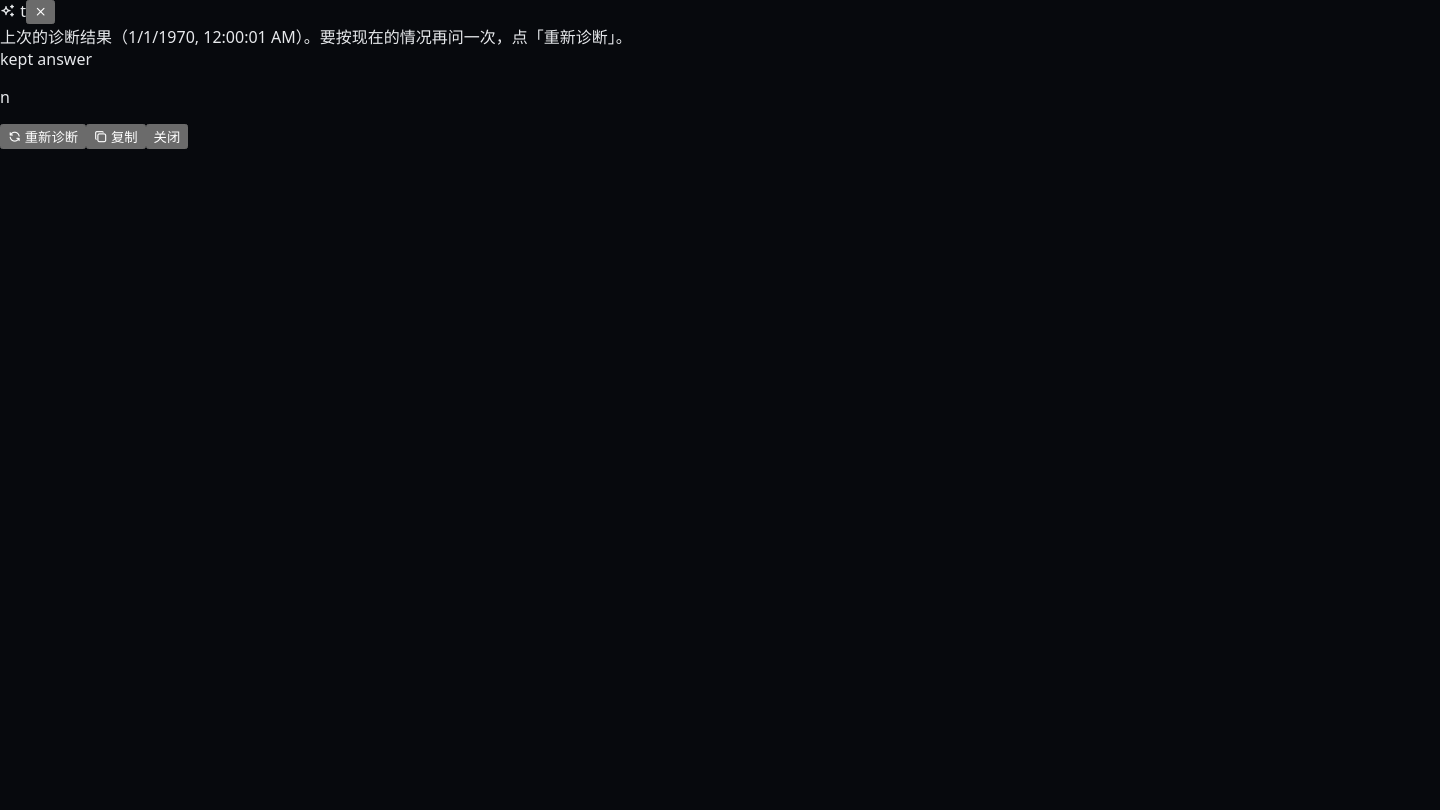
kept AI answers › shows the last answer without asking, and asks again only when told
Click the button "重新诊断" at (43, 136), box [0, 124, 86, 149]
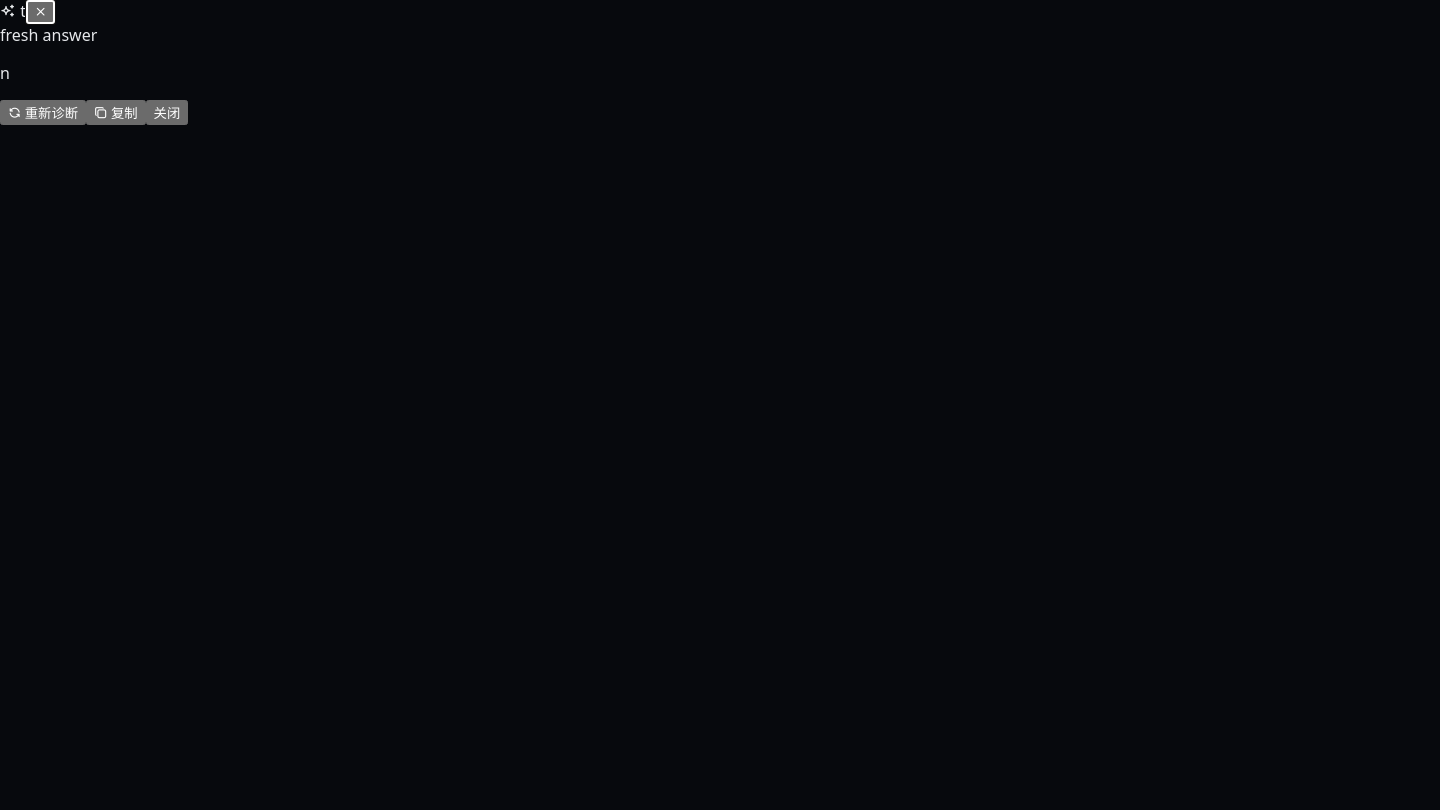
Expected: the text "fresh answer" is shown, [0, 24, 97, 46]
